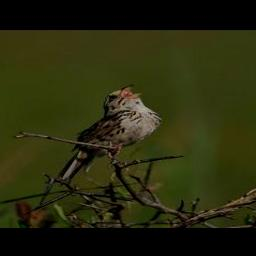Sparrow: (52, 84, 166, 189)
